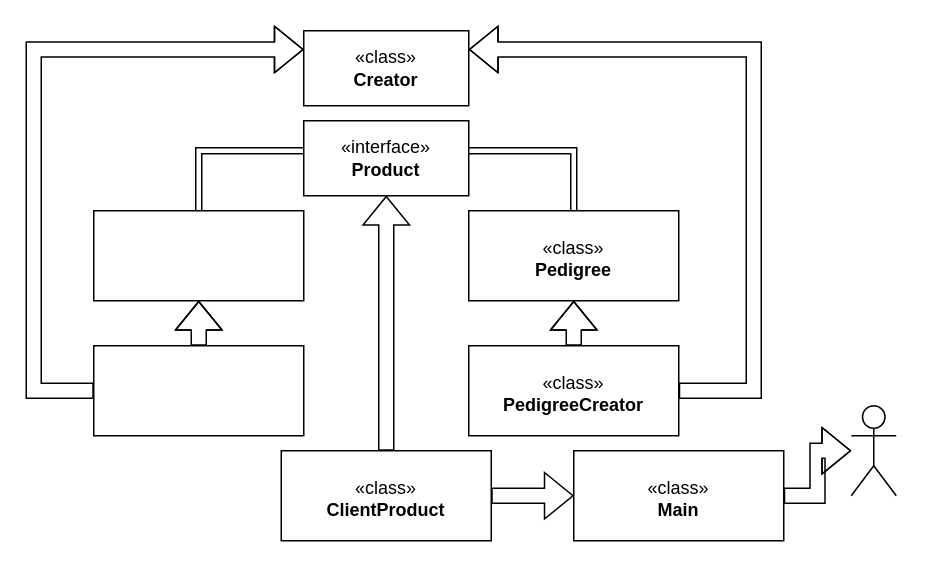
Some shapes in this 927 by 567 pixel diagram are drawn without their labels. The shapes that lost their labels are listed below. From the top down, each one's centre as x and y in pixels, then its label:
At point (198, 255): "«class» DogChow".
At point (198, 390): "«class» DogChowCreator".
At point (873, 450): "Cliente".
